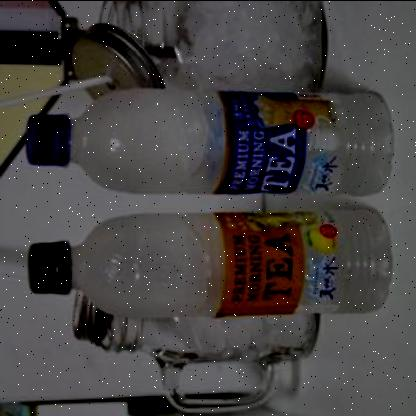Plastic Bottle: (28, 207, 392, 316), (26, 86, 393, 194)
